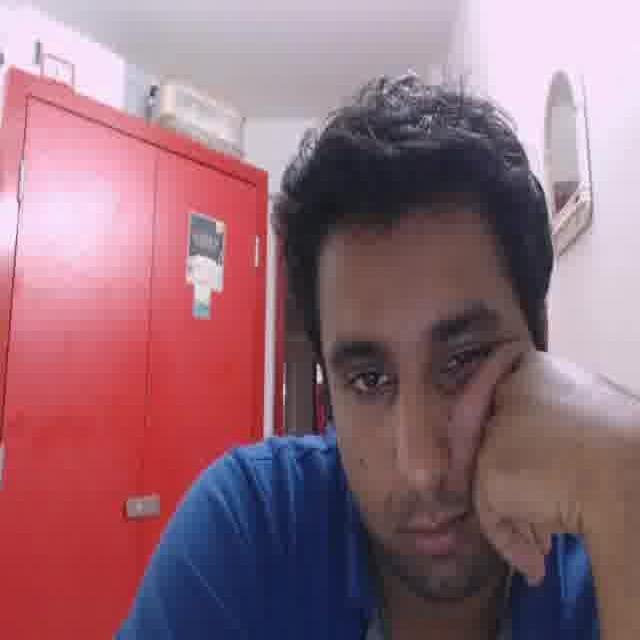Boredom: (320, 213, 542, 598)
